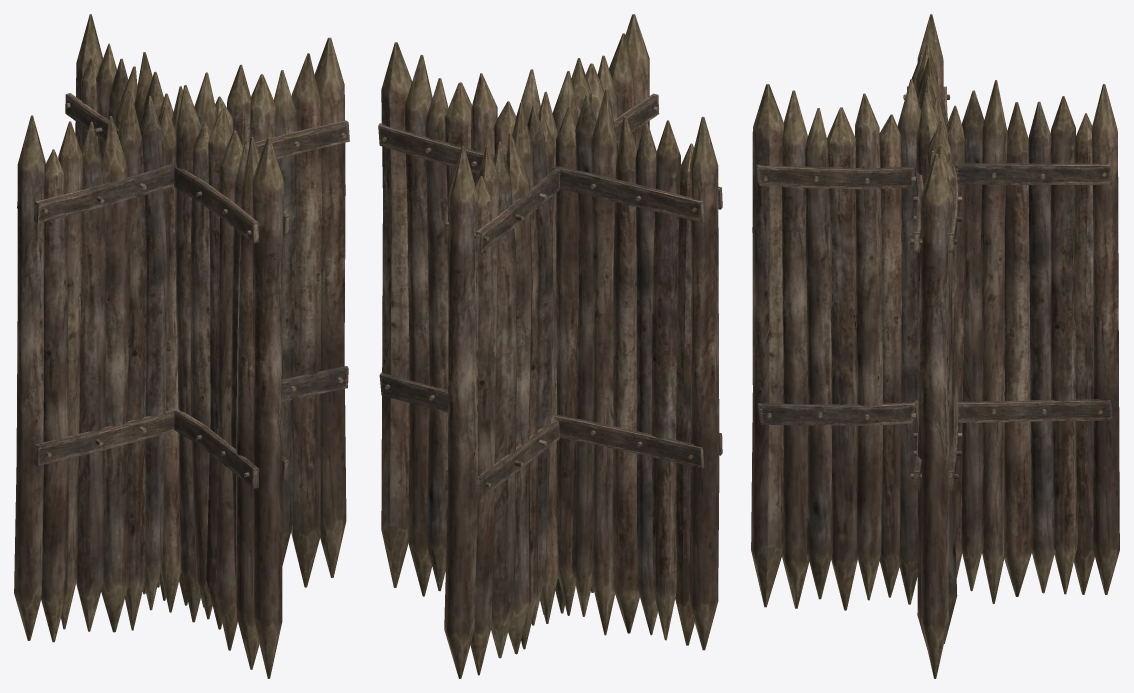
The model's file is jav_struc_def_log_t1_wall_x-transformed.glb.
3 views of the same model, side by side, from view 1: azimuth 30°, elevation 25°; view 2: azimuth 150°, elevation 25°; view 3: azimuth 270°, elevation 25° (orthographic). The views are drawn at different scales.
Visible parts, largest first — view 1: default; view 2: default; view 3: default.
Boxes of the visible parts, x1,y1,x2,y2 form: default: (14,14,349,678); default: (378,14,722,678); default: (751,14,1119,678).
Size of the model in its own units: 4.07 by 6.41 by 4.07.
Materials: 1 (1 with a texture image).
